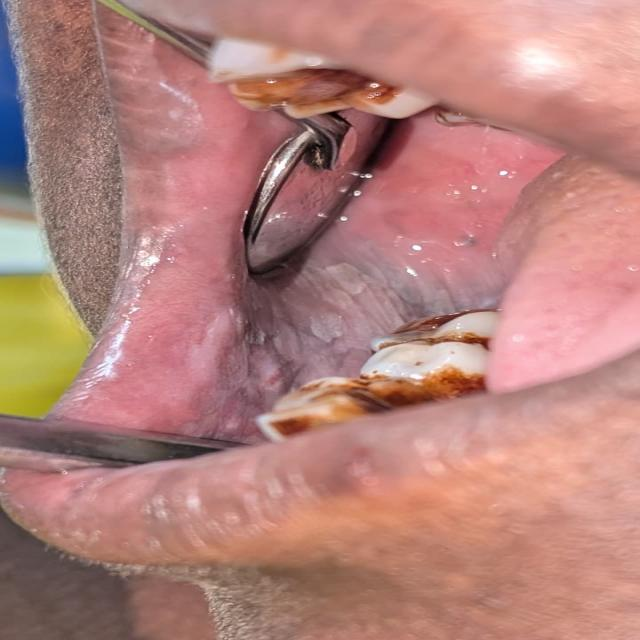leukoplakia-detection: (160, 235, 518, 413)
processing_area: (65, 75, 639, 442)
